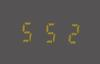five: (18, 18, 37, 43), (39, 19, 58, 44)
two: (59, 20, 78, 44)
